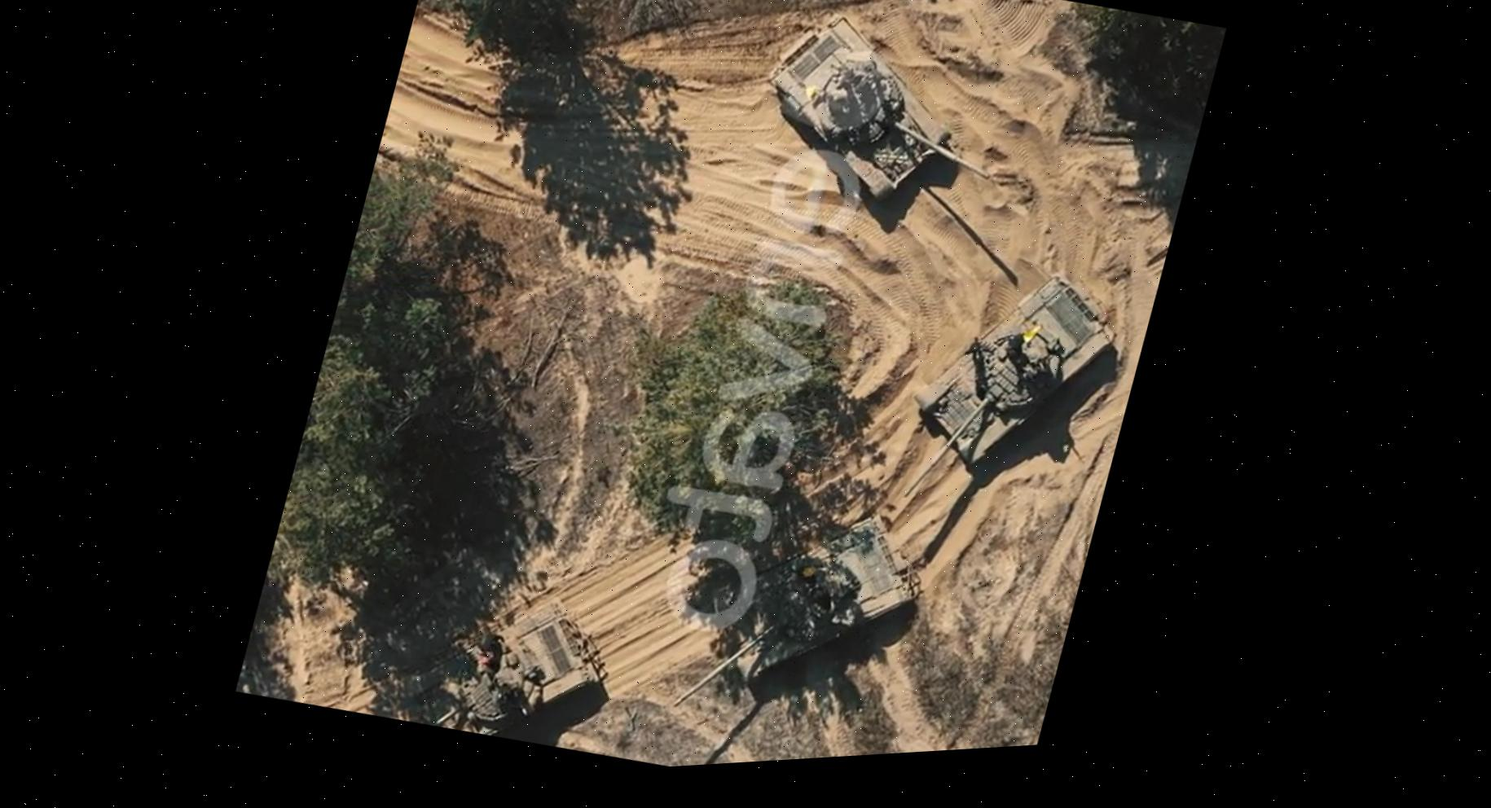tank: (658, 469, 944, 765), (732, 0, 1029, 253), (885, 247, 1134, 541), (371, 563, 619, 764)
